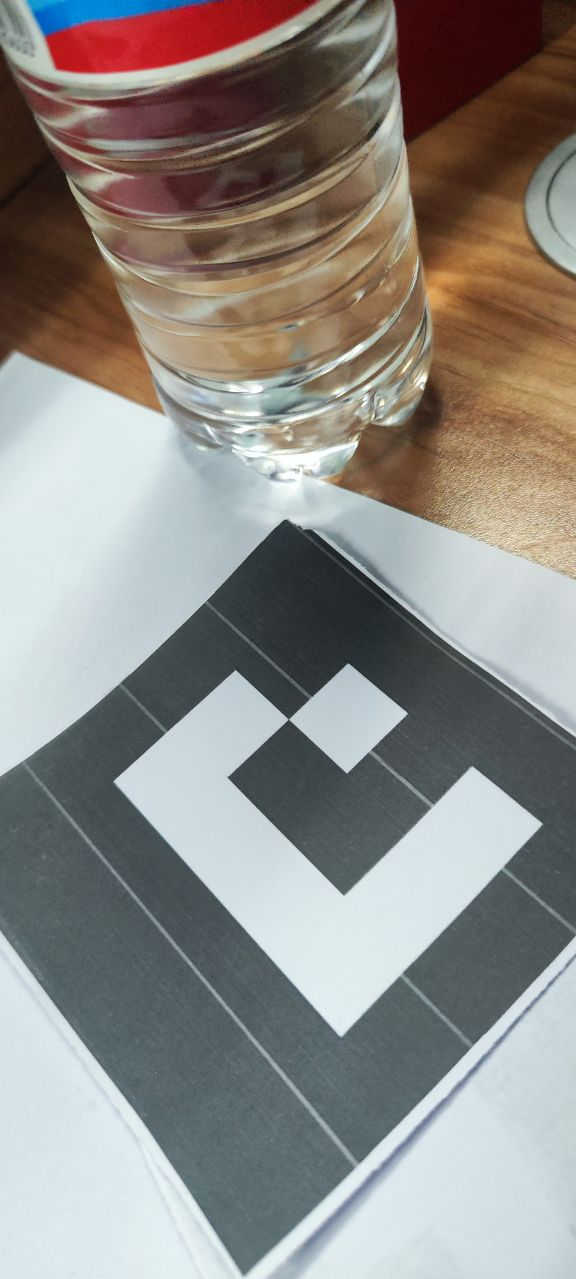mark1: (108, 658, 548, 1052)
